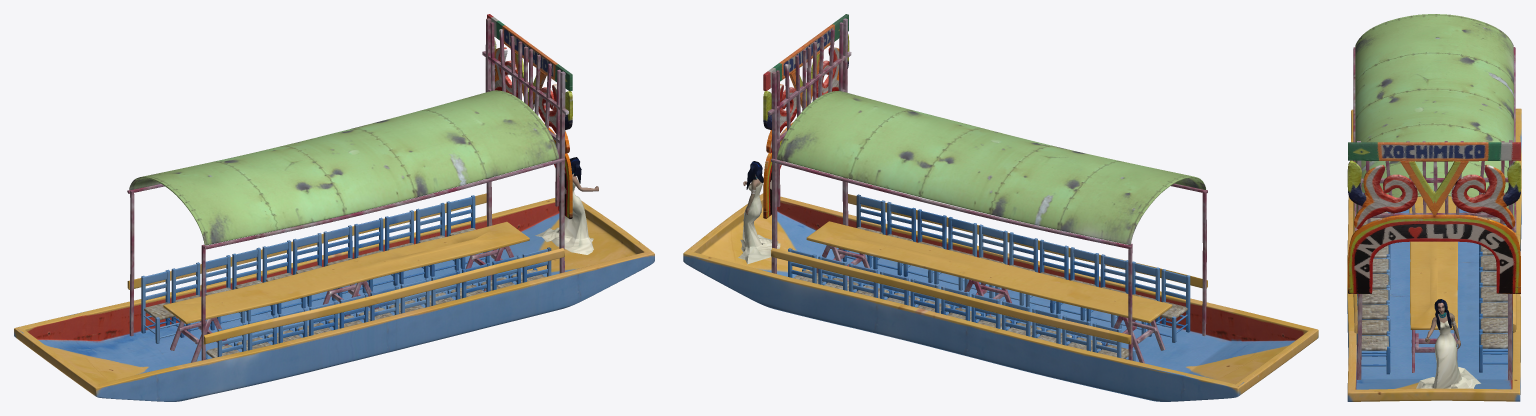
Rendered from trajineraLlorona.obj.
3 renders of one model, left to right at view 1: azimuth 30°, elevation 25°; view 2: azimuth 150°, elevation 25°; view 3: azimuth 270°, elevation 25°, orthographic. The views are drawn at different scales.
Parts seen in each view (by area): view 1: Trajineral_GEO_barcaza_Decimated:defaultMat1_0.003, llorona; view 2: Trajineral_GEO_barcaza_Decimated:defaultMat1_0.003, llorona; view 3: Trajineral_GEO_barcaza_Decimated:defaultMat1_0.003, llorona, pCube1.
Boxes of the visible parts, left/top/right/bottom form: Trajineral_GEO_barcaza_Decimated:defaultMat1_0.003: left=14, top=14, right=654, bottom=401; llorona: left=535, top=173, right=598, bottom=254; Trajineral_GEO_barcaza_Decimated:defaultMat1_0.003: left=683, top=14, right=1318, bottom=401; llorona: left=738, top=173, right=780, bottom=264; Trajineral_GEO_barcaza_Decimated:defaultMat1_0.003: left=1347, top=14, right=1521, bottom=401; llorona: left=1416, top=301, right=1480, bottom=388; pCube1: left=1434, top=299, right=1451, bottom=329.
Size of the model in its own units: 40.54 by 16.4 by 10.52.
3 materials, 3 textured.
